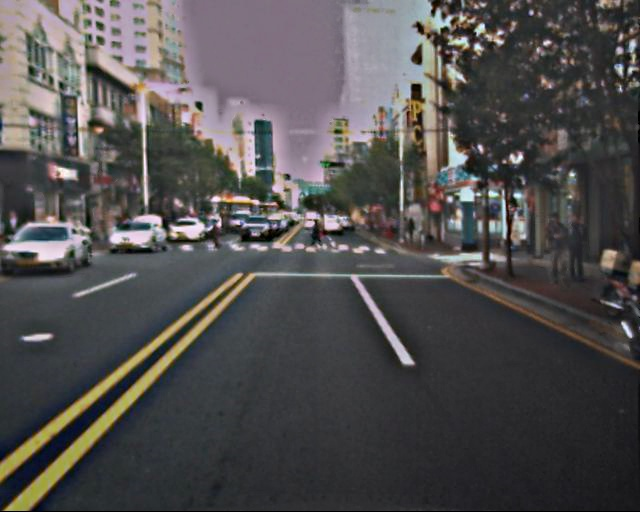person: (557, 212, 587, 286), (538, 214, 567, 285), (308, 217, 322, 250), (211, 222, 223, 251)
